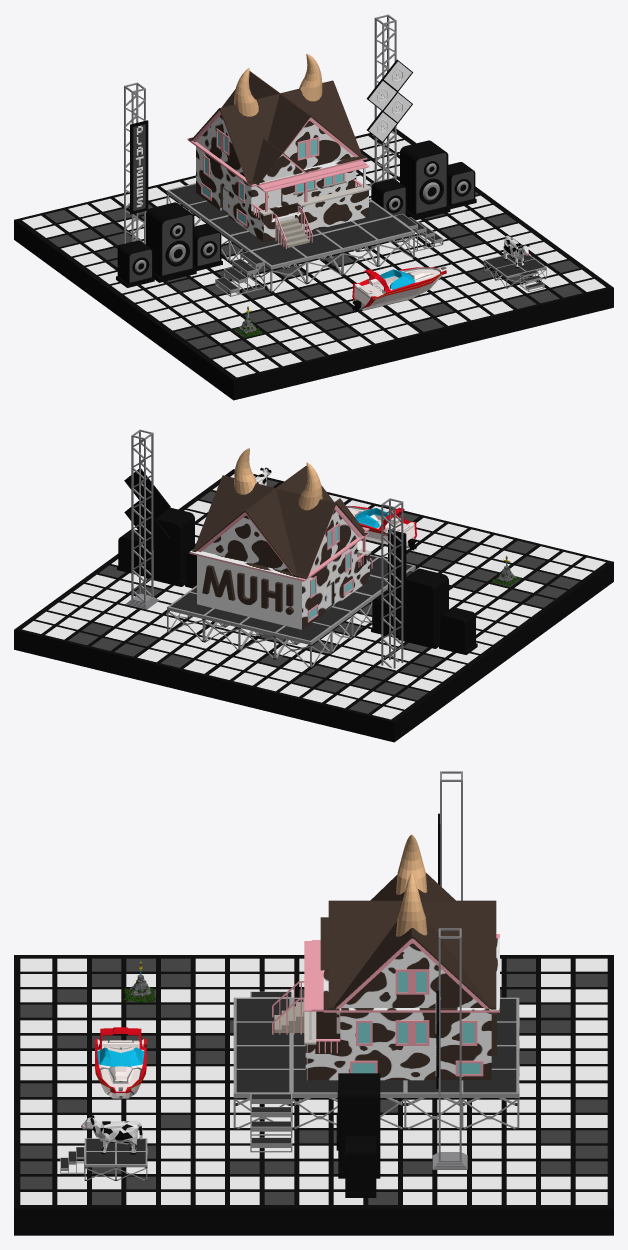
3 views of the same model, one above another, from view 1: azimuth 30°, elevation 25°; view 2: azimuth 150°, elevation 25°; view 3: azimuth 270°, elevation 25° (orthographic). The views are drawn at different scales.
Parts seen in each view (by area): view 1: Cube.008, Cube.1242, VEHICLES_BOAT; view 2: Cube.008, Cube.1242, VEHICLES_BOAT; view 3: Cube.008, Cube.1242, VEHICLES_BOAT, ANIMAL_VACA.
Boxes of the visible parts, x1,y1,x2,y2 form: Cube.008: (14, 14, 613, 400); Cube.1242: (187, 54, 371, 248); VEHICLES_BOAT: (352, 266, 446, 311); Cube.008: (14, 429, 613, 742); Cube.1242: (189, 448, 372, 629); VEHICLES_BOAT: (346, 506, 416, 550); Cube.008: (14, 771, 613, 1235); Cube.1242: (272, 834, 499, 1080); VEHICLES_BOAT: (95, 1027, 146, 1099); ANIMAL_VACA: (81, 1115, 142, 1154).
Size of the model in its own units: 4000 by 1972 by 4000.
Materials: 46 (1 with a texture image).
